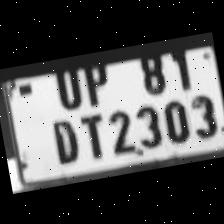0: (156, 91, 192, 144)
1: (161, 34, 200, 90)
2: (100, 102, 136, 154)
3: (127, 96, 164, 152), (184, 84, 221, 138)
8: (129, 44, 170, 98)
D: (42, 110, 83, 164)
P: (74, 50, 114, 104)
T: (74, 105, 108, 159)
U: (44, 54, 86, 109)
